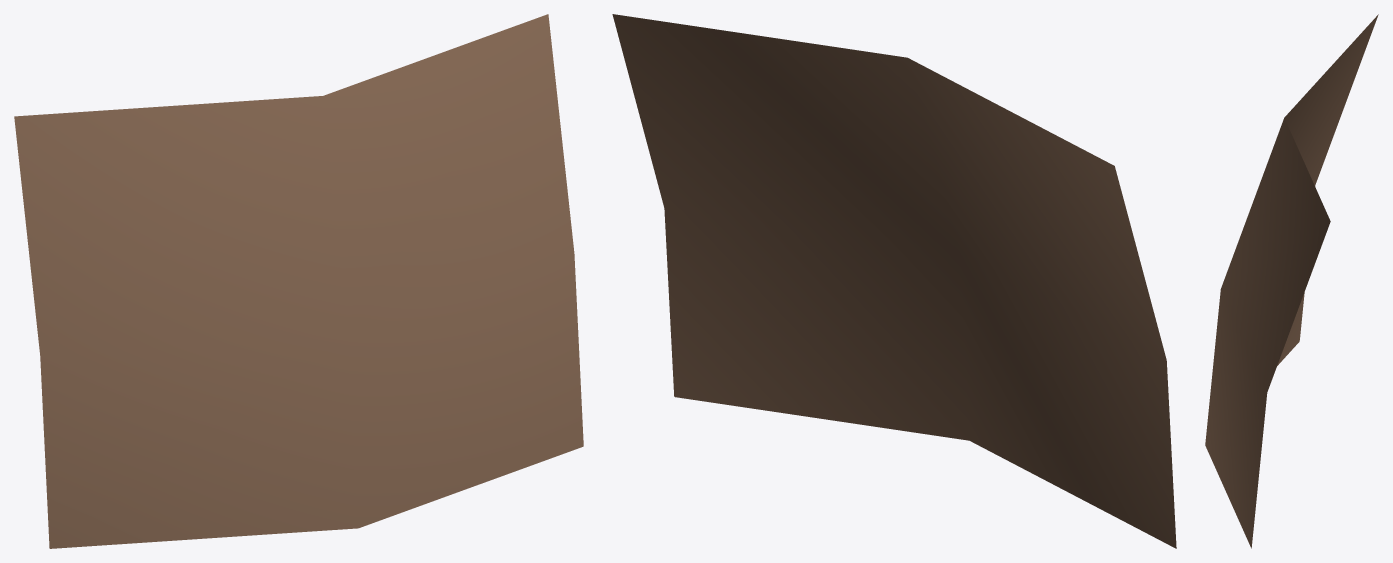
Rendered from GrassPlane_b_TwoS_02.fbx.
The picture shows the model from 3 angles, left to right: view 1: azimuth 30°, elevation 25°; view 2: azimuth 150°, elevation 25°; view 3: azimuth 270°, elevation 25°; orthographic projection. The views are drawn at different scales.
Parts seen in each view (by area): view 1: GrassPlane_b_TwoS_02; view 2: GrassPlane_b_TwoS_02; view 3: GrassPlane_b_TwoS_02.
Part boxes in pixels (x1,y1,x2,y2): GrassPlane_b_TwoS_02: [14, 14, 583, 548]; GrassPlane_b_TwoS_02: [612, 14, 1176, 548]; GrassPlane_b_TwoS_02: [1205, 14, 1378, 548].
Bounding box in the file's own units: 75.33 × 55 × 26.04.
